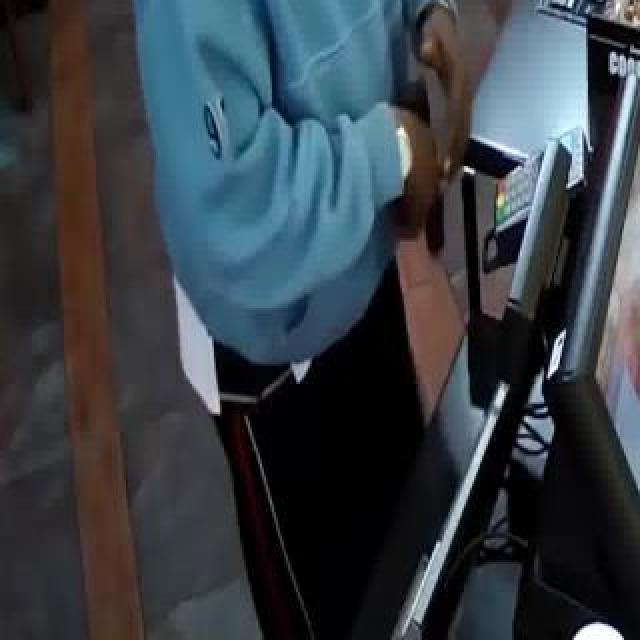Guns: (370, 50, 460, 275)
